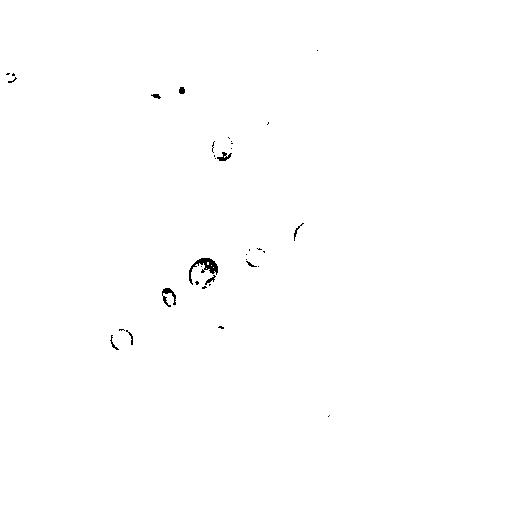micro-algae: (48, 50, 101, 106), (188, 255, 220, 290), (75, 255, 105, 286), (211, 132, 234, 162), (292, 222, 315, 252), (110, 326, 134, 352), (265, 114, 287, 140), (243, 247, 269, 267), (314, 38, 335, 59), (160, 286, 178, 309), (175, 79, 192, 99), (2, 70, 17, 84)
